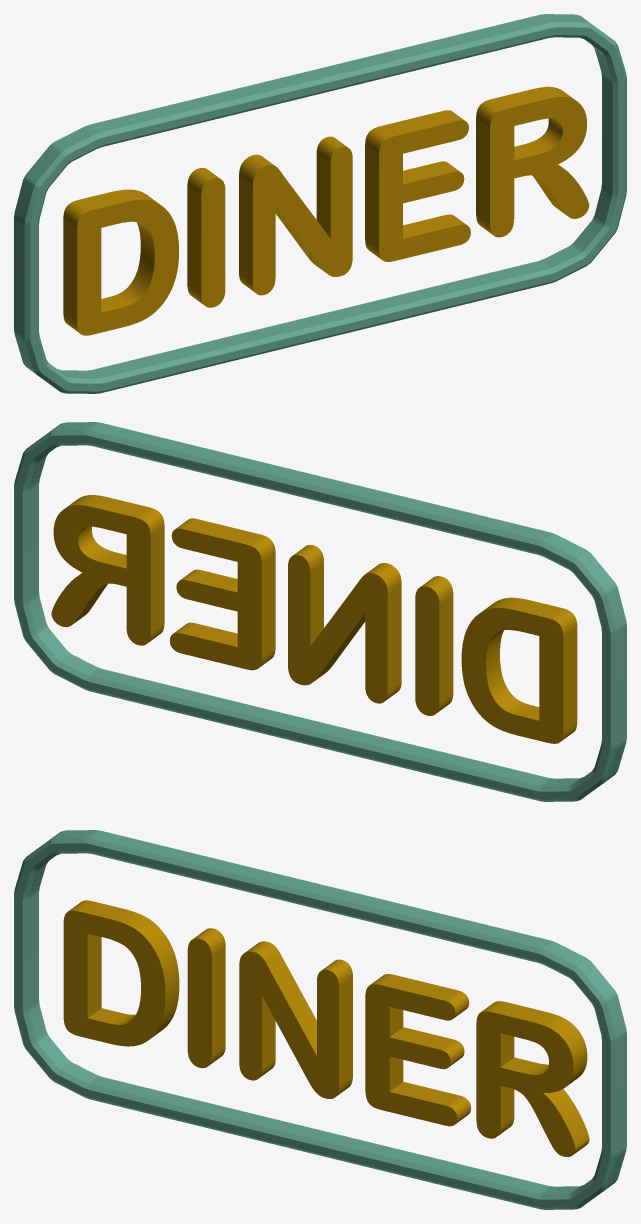
The model's file is DinerLight.fbx.
The picture shows the model from 3 angles, top to bottom: view 1: azimuth 30°, elevation 25°; view 2: azimuth 150°, elevation 25°; view 3: azimuth 330°, elevation 25°; orthographic projection.
Visible parts, largest first — view 1: polySurface1, polySurface6; view 2: polySurface1, polySurface6; view 3: polySurface1, polySurface6.
Part boxes in pixels (x1,y1,x2,y2): polySurface1: (63,86,589,335); polySurface6: (14,14,626,393); polySurface1: (51,495,577,743); polySurface6: (14,422,626,801); polySurface1: (63,900,589,1156); polySurface6: (14,830,626,1209).
Size of the model in its own units: 5.34 by 2.21 by 0.227.
